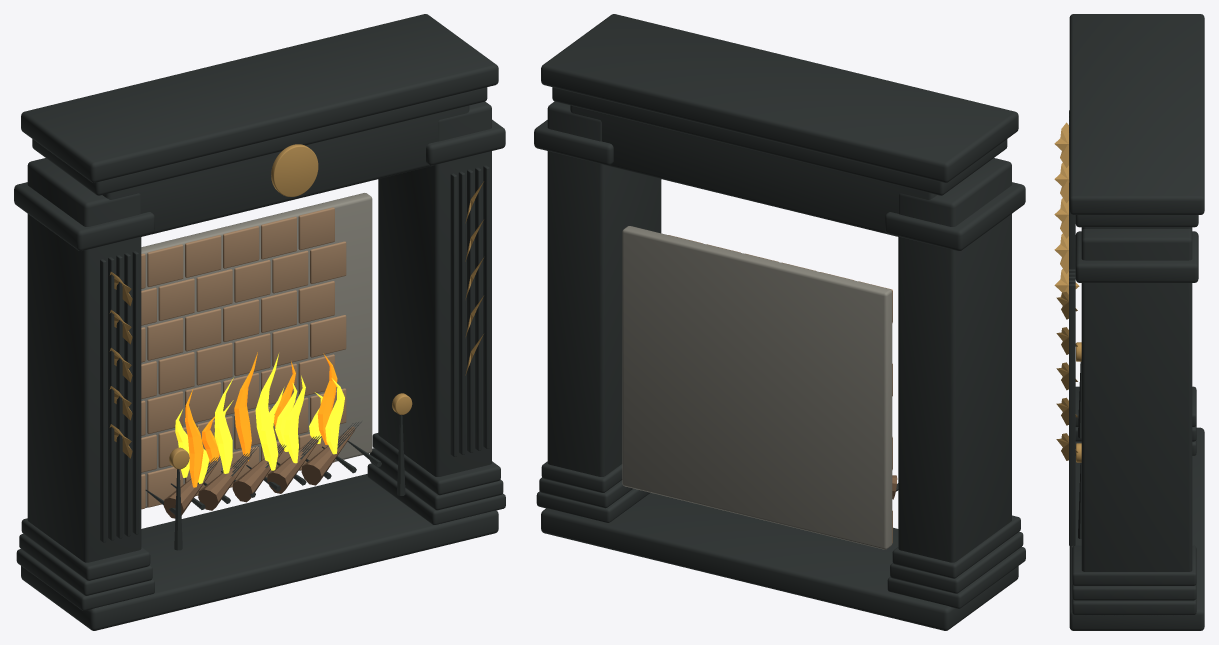
The model's file is cast-iron-fireplace.glb.
The picture shows the model from 3 angles, left to right: view 1: azimuth 30°, elevation 25°; view 2: azimuth 150°, elevation 25°; view 3: azimuth 270°, elevation 25°; orthographic projection. The views are drawn at different scales.
Visible parts, largest first — view 1: cast-iron-fireplace; view 2: cast-iron-fireplace; view 3: cast-iron-fireplace.
Part boxes in pixels (x1,y1,x2,y2): cast-iron-fireplace: (14,14,505,630); cast-iron-fireplace: (534,14,1025,630); cast-iron-fireplace: (1054,14,1204,630).
Size of the model in its own units: 1.1 by 1.15 by 0.36.
